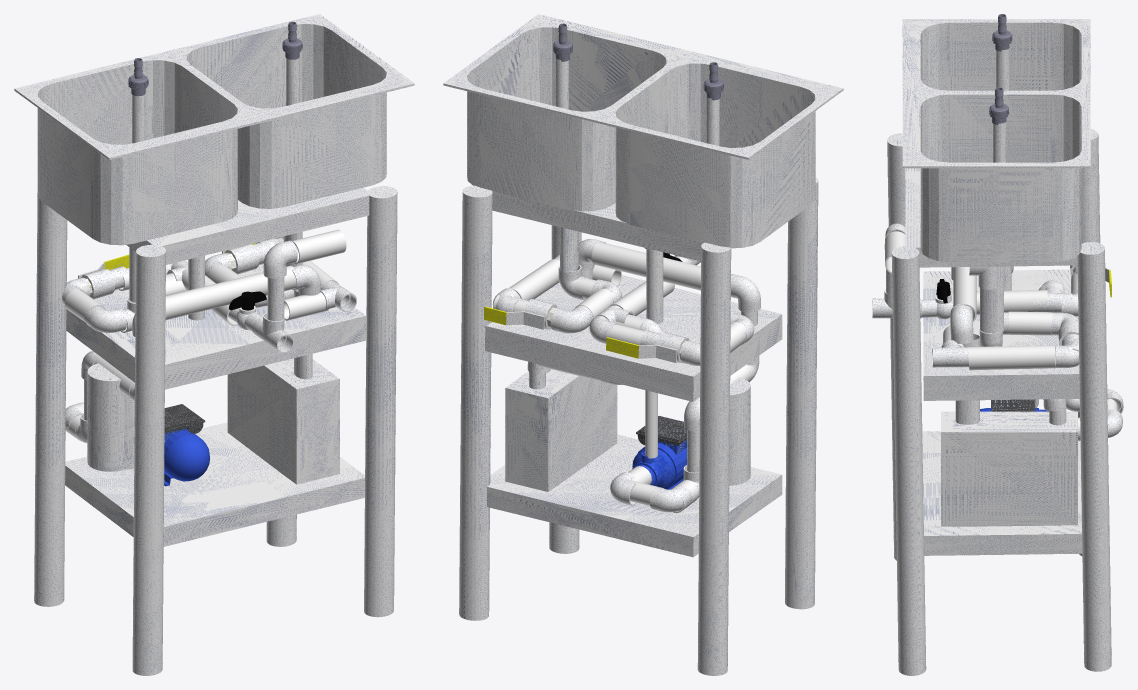
3 views of the same model, side by side, from view 1: azimuth 30°, elevation 25°; view 2: azimuth 150°, elevation 25°; view 3: azimuth 270°, elevation 25° (orthographic).
Parts seen in each view (by area): view 1: Kitchen_sink_double (×3), group_1 (×3), group_3, group_2, group_0 (×3), _3__PVC_pipe_shed40 (×4), group_9, _4L40 (×3), SimpleDome02, _2T40 (×2), Ball_Valve (×2), group_8 (+3 smaller); view 2: Kitchen_sink_double (×3), group_1 (×3), group_0 (×3), group_3, _3__PVC_pipe_shed40 (×4), _4L40 (×4), group_9, group_2, Water_Pump, group_4, group_5; view 3: Kitchen_sink_double (×3), group_1 (×3), group_0 (×3), group_2, _3__PVC_pipe_shed40 (×5), _2T40 (×4), group_3, _4L40 (×3), Spigot_union_female_threaded_UP.55.SPIFT_-_E_x_G__16_x_3_8_C (×2), group_12, group_4, group_5 (+1 smaller).
Part boxes in pixels (box(x1,y1,x2,y2)): Kitchen_sink_double (×3): box(14, 14, 414, 245); group_1 (×3): box(34, 187, 369, 606); group_3: box(132, 244, 165, 675); group_2: box(364, 186, 397, 617); group_0 (×3): box(188, 255, 339, 484); _3__PVC_pipe_shed40 (×4): box(65, 229, 346, 321); group_9: box(87, 363, 124, 471); _4L40 (×3): box(84, 240, 320, 332); SimpleDome02: box(164, 431, 210, 481); _2T40 (×2): box(252, 281, 356, 353); Ball_Valve (×2): box(81, 244, 259, 299); group_8: box(100, 366, 134, 469); Kitchen_sink_double (×3): box(443, 14, 843, 248); group_1 (×3): box(459, 185, 782, 675); group_0 (×3): box(505, 227, 663, 491); group_3: box(785, 177, 818, 609); _3__PVC_pipe_shed40 (×4): box(509, 242, 733, 458); _4L40 (×4): box(550, 274, 760, 512); group_9: box(729, 377, 750, 485); group_2: box(549, 225, 581, 553); Water_Pump: box(632, 449, 675, 488); group_4: box(555, 57, 568, 109); group_5: box(706, 95, 719, 146); Kitchen_sink_double (×3): box(902, 19, 1090, 261); group_1 (×3): box(905, 129, 1111, 671); group_0 (×3): box(941, 266, 1077, 526); group_2: box(891, 246, 926, 675); _3__PVC_pipe_shed40 (×5): box(885, 231, 1055, 370); _2T40 (×4): box(872, 266, 1072, 367); group_3: box(887, 133, 905, 560); _4L40 (×3): box(950, 303, 1079, 367); Spigot_union_female_threaded_UP.55.SPIFT_-_E_x_G__16_x_3_8_C (×2): box(989, 14, 1012, 124); group_12: box(921, 293, 953, 319); group_4: box(993, 121, 1006, 162); group_5: box(996, 47, 1009, 90).
Size of the model in its own units: 25.09 by 18.05 by 44.44.
Materials: 10 (2 with a texture image).
